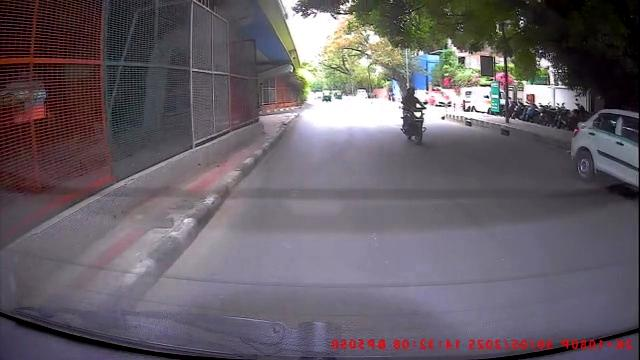motorcycle_with_helmet: (400, 85, 427, 145)
